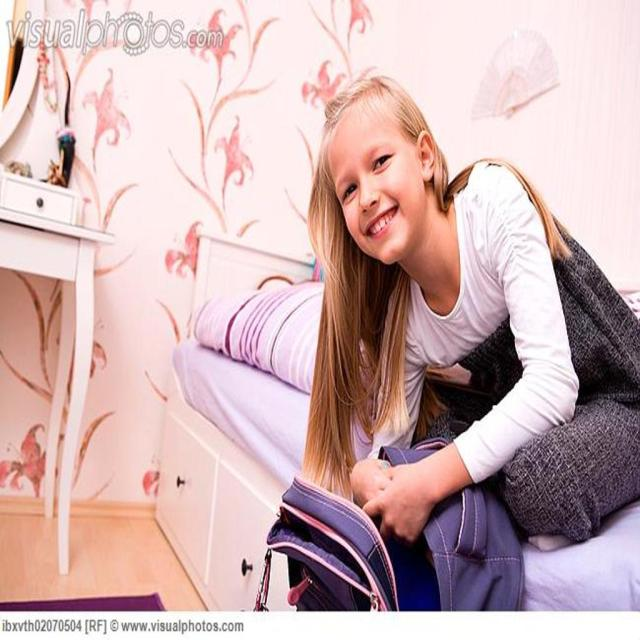Face: (320, 90, 433, 265)
